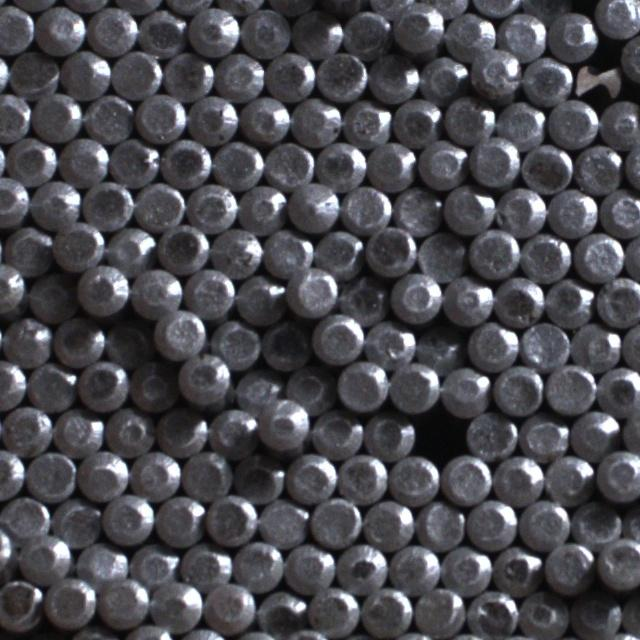tool: (149, 578, 204, 631), (178, 351, 229, 406), (542, 539, 594, 592), (76, 264, 129, 316), (16, 531, 69, 583), (465, 587, 519, 638), (44, 576, 96, 628), (204, 492, 256, 544), (52, 316, 104, 368), (364, 225, 415, 278), (359, 585, 412, 636), (158, 223, 211, 274), (414, 584, 466, 635), (492, 363, 543, 415), (519, 140, 570, 192), (544, 362, 595, 414), (25, 449, 76, 501), (98, 576, 149, 628), (29, 178, 80, 230), (291, 11, 343, 62), (520, 230, 571, 281), (442, 185, 493, 236), (30, 90, 81, 141), (468, 227, 519, 278), (101, 492, 152, 543), (316, 49, 367, 100), (53, 221, 104, 272), (466, 497, 516, 549), (362, 498, 412, 550), (518, 498, 568, 550), (134, 91, 184, 143), (492, 275, 542, 327), (469, 136, 519, 188), (337, 542, 387, 594), (181, 448, 231, 500), (51, 496, 101, 548), (82, 178, 134, 228), (128, 359, 178, 411), (444, 10, 496, 60), (393, 5, 443, 57), (258, 399, 307, 452), (574, 231, 624, 282), (464, 410, 515, 460), (569, 407, 619, 458), (519, 319, 570, 369), (440, 453, 490, 504), (547, 97, 597, 148), (546, 186, 596, 237), (76, 360, 127, 410), (467, 320, 518, 370), (492, 453, 542, 504), (131, 266, 181, 317), (441, 276, 491, 327), (289, 180, 340, 230), (310, 495, 361, 545), (416, 138, 466, 189), (156, 406, 207, 456), (2, 314, 52, 365), (492, 542, 542, 593), (496, 186, 546, 237), (312, 313, 362, 364), (310, 408, 361, 458), (390, 542, 441, 592), (208, 403, 258, 454), (343, 8, 393, 59), (416, 407, 466, 458), (154, 493, 203, 545), (570, 499, 622, 548), (240, 7, 290, 57), (188, 5, 238, 55), (389, 453, 439, 503), (336, 360, 386, 410), (340, 183, 390, 233), (520, 54, 570, 104), (544, 276, 594, 326), (78, 450, 128, 500), (392, 272, 442, 322), (110, 48, 160, 98), (292, 96, 342, 146), (130, 449, 180, 499), (187, 94, 237, 144), (234, 274, 284, 324), (392, 96, 442, 146), (1, 404, 51, 454), (25, 273, 75, 323), (184, 267, 234, 317), (288, 266, 338, 316), (388, 364, 438, 414), (283, 542, 333, 592), (154, 308, 204, 358), (546, 10, 596, 60), (470, 47, 520, 97), (138, 6, 188, 56), (337, 452, 386, 503), (439, 365, 488, 416), (361, 410, 412, 459), (317, 139, 366, 190), (442, 95, 491, 146), (108, 137, 159, 186), (393, 184, 442, 234), (519, 411, 569, 460), (573, 144, 622, 194), (417, 230, 466, 280), (88, 4, 138, 53), (264, 140, 314, 189), (212, 227, 262, 276), (83, 93, 132, 143), (215, 50, 264, 100), (27, 360, 76, 410), (570, 320, 619, 370), (442, 544, 492, 593), (162, 50, 212, 99), (367, 138, 416, 188), (307, 586, 357, 635), (134, 180, 183, 230), (239, 94, 288, 144), (59, 49, 109, 98), (368, 53, 418, 102), (161, 138, 211, 187), (205, 580, 254, 630), (232, 539, 281, 589), (236, 454, 286, 503), (0, 492, 49, 542), (4, 226, 53, 276), (75, 538, 126, 586), (578, 57, 630, 104), (213, 139, 262, 188), (418, 51, 467, 100), (59, 135, 108, 184), (339, 274, 388, 323), (518, 592, 568, 640), (417, 499, 465, 549), (188, 180, 238, 228), (544, 452, 592, 502), (266, 50, 314, 100), (262, 228, 310, 278), (212, 318, 262, 366), (286, 453, 334, 503), (103, 318, 153, 366), (36, 4, 85, 52), (496, 98, 544, 147), (366, 320, 415, 368), (258, 498, 307, 546), (238, 182, 286, 231), (497, 10, 545, 59), (314, 227, 362, 276), (105, 224, 154, 272), (261, 322, 309, 371), (9, 49, 57, 98), (7, 136, 56, 184), (570, 593, 620, 640), (179, 542, 230, 588), (595, 450, 640, 502), (53, 407, 101, 455), (105, 406, 153, 454), (343, 98, 391, 146), (596, 276, 640, 328), (0, 578, 42, 632), (414, 322, 461, 370), (257, 585, 306, 631), (284, 366, 333, 412), (232, 367, 282, 412), (597, 365, 640, 417), (597, 538, 640, 590), (130, 541, 177, 587), (598, 101, 640, 149), (600, 188, 640, 236), (595, 0, 640, 38), (0, 2, 34, 52), (0, 90, 30, 140), (0, 175, 28, 228), (0, 358, 26, 408), (0, 263, 25, 314), (0, 448, 25, 498), (522, 0, 570, 19)
